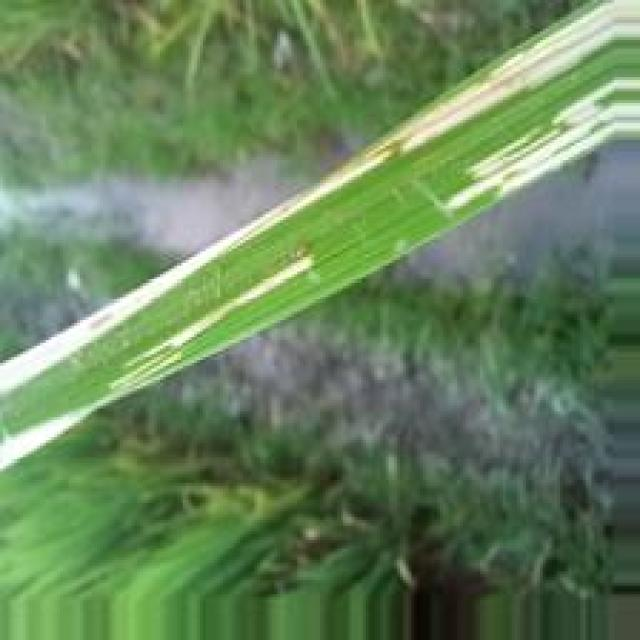Rice_Hispa: (0, 0, 640, 390), (0, 257, 306, 471), (442, 70, 640, 214)
